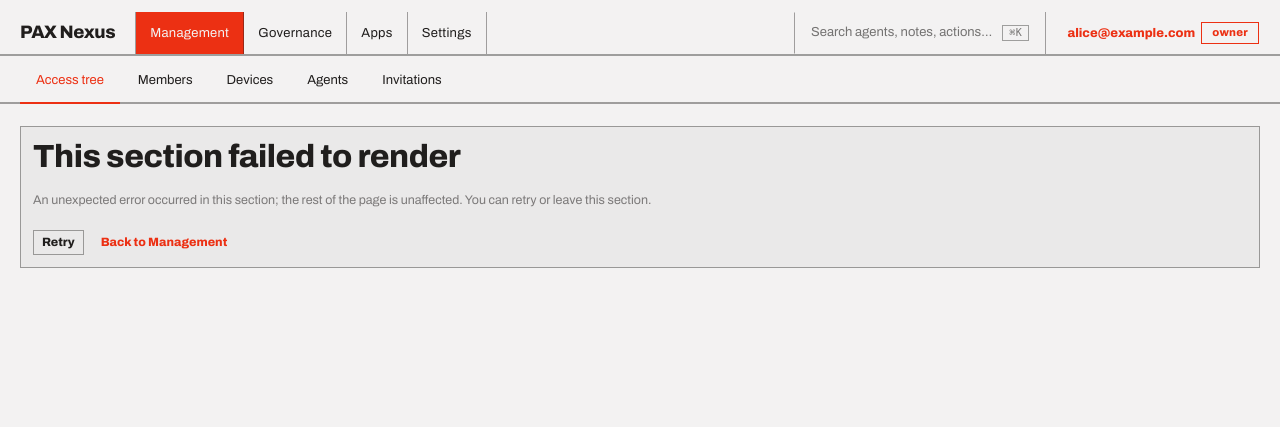
Test: route boundary: a failing route keeps the shell usable › retry remounts the route and recovers once the backend responds sanely
Click the button "Retry".
click(58, 242)  # box [33, 230, 84, 255]
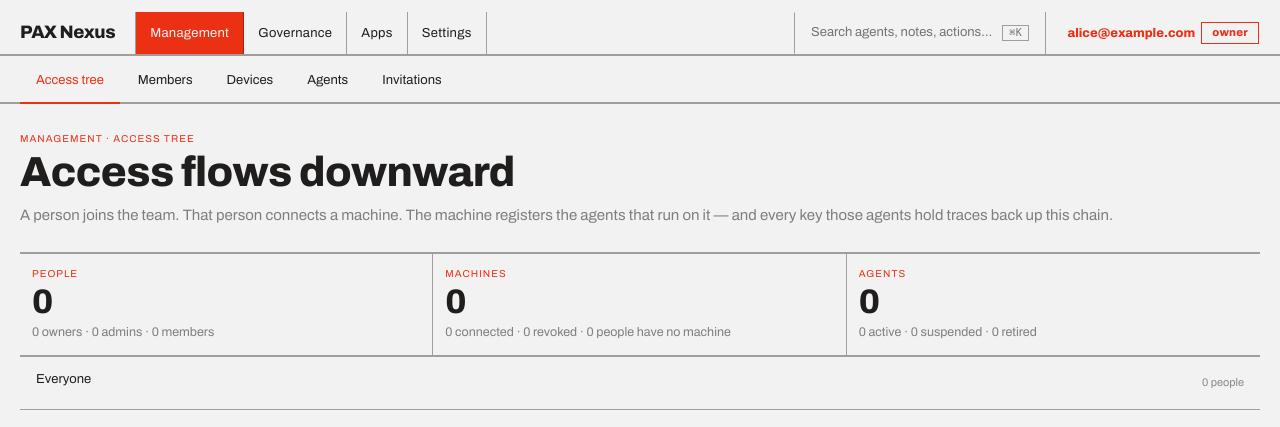
Result: the heading "Access flows downward" is shown at [20, 149, 515, 195]
Result: the message "This section failed to render An unexpected error occurred in this section; the" is gone
Result: the text "0 people" is shown at [1202, 374, 1244, 391]
